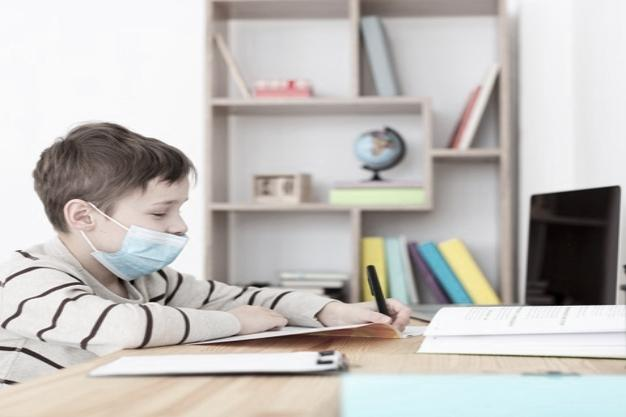mask_weared_incorrect: (36, 119, 195, 283)
